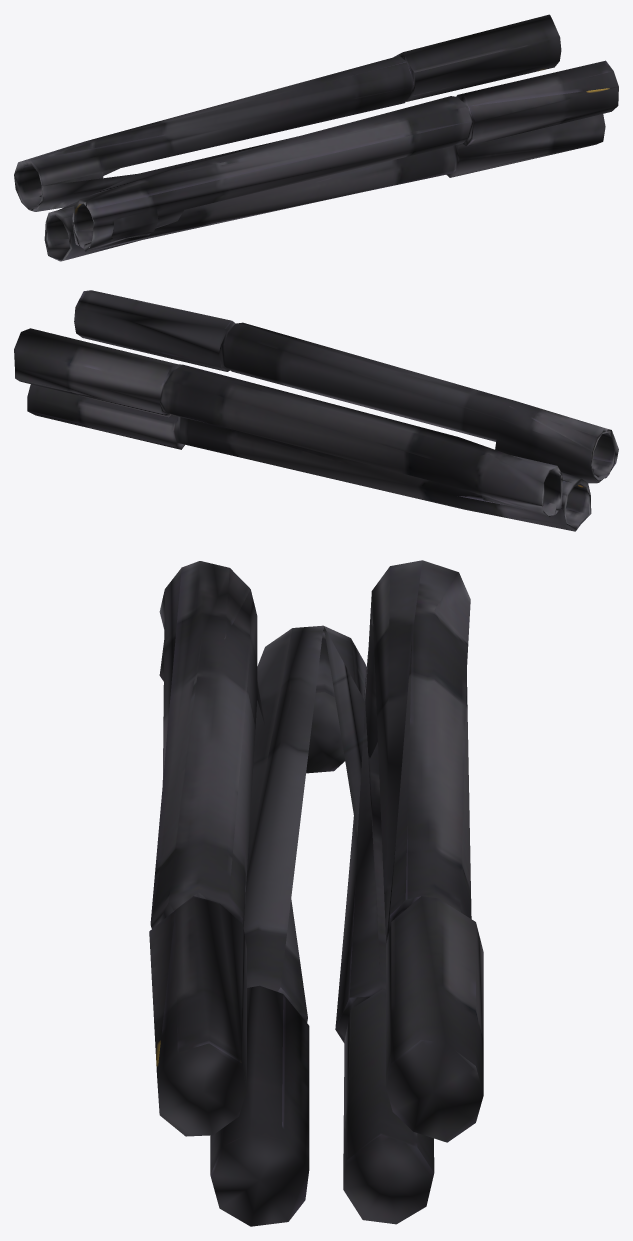
File: gun_housing.glb
The picture shows the model from 3 angles, top to bottom: view 1: azimuth 30°, elevation 25°; view 2: azimuth 150°, elevation 25°; view 3: azimuth 270°, elevation 25°; orthographic projection. The views are drawn at different scales.
Parts seen in each view (by area): view 1: Gun_Housing; view 2: Gun_Housing; view 3: Gun_Housing.
Part boxes in pixels (<box>): Gun_Housing: <box>14,14,618,261</box>; Gun_Housing: <box>14,290,618,531</box>; Gun_Housing: <box>149,560,483,1226</box>.
Size of the model in its own units: 0.457 by 0.0781 by 0.1255.
1 material, 1 textured.
